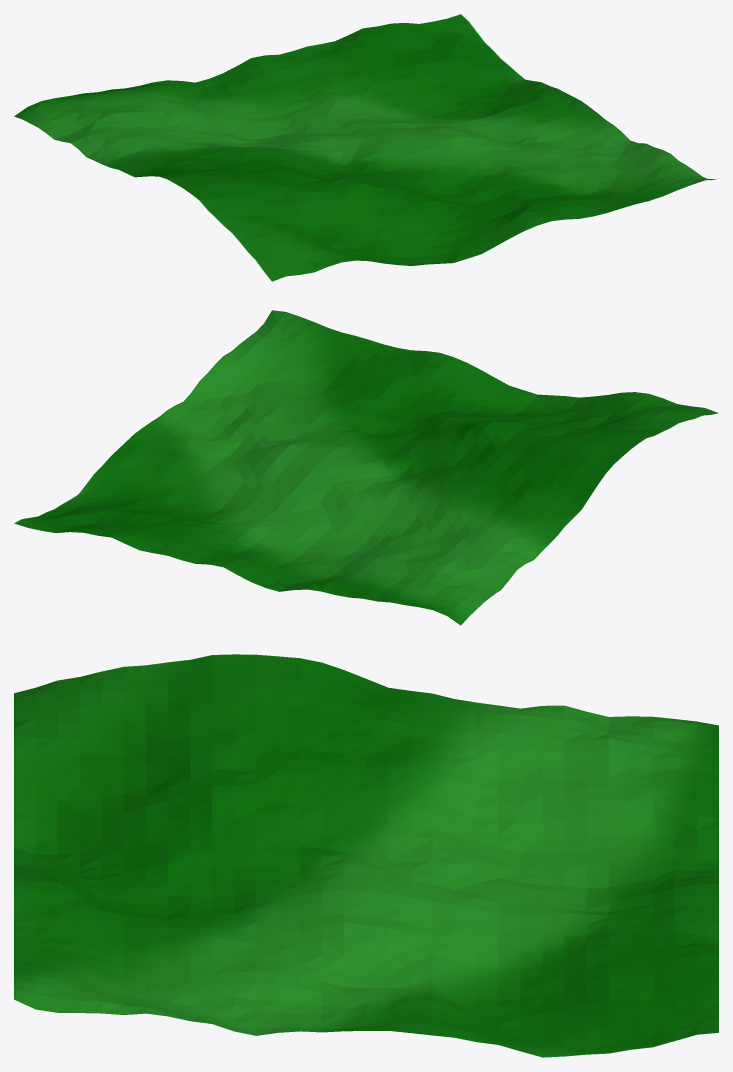
The model's file is Ground.obj.
The picture shows the model from 3 angles, top to bottom: view 1: azimuth 30°, elevation 25°; view 2: azimuth 150°, elevation 25°; view 3: azimuth 270°, elevation 25°; orthographic projection. The views are drawn at different scales.
Visible parts, largest first — view 1: Plane_material; view 2: Plane_material; view 3: Plane_material.
Part boxes in pixels (x1=…): Plane_material: x1=14, y1=14, x2=718, y2=281; Plane_material: x1=14, y1=310, x2=718, y2=625; Plane_material: x1=14, y1=654, x2=718, y2=1057.
Bounding box in the file's own units: 10 × 1.65 × 10.
Materials: 1 (1 with a texture image).
